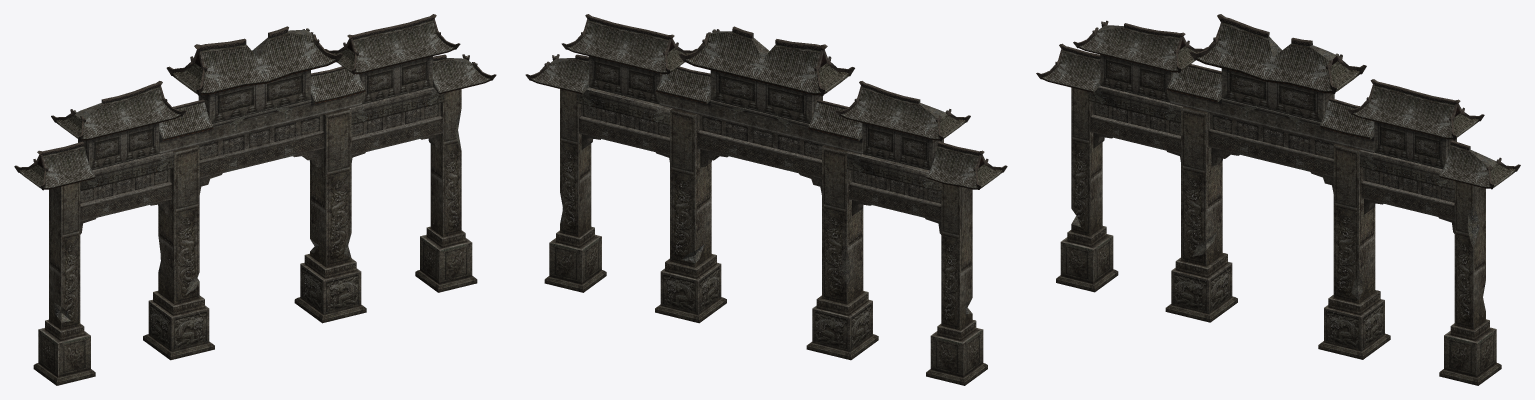
File: ep-034-stonedoor.glb
The picture shows the model from 3 angles, left to right: view 1: azimuth 30°, elevation 25°; view 2: azimuth 150°, elevation 25°; view 3: azimuth 330°, elevation 25°; orthographic projection.
Parts seen in each view (by area): view 1: ep-034-stonedoor-02; view 2: ep-034-stonedoor-02; view 3: ep-034-stonedoor-02.
Part boxes in pixels (bbox=[...]): ep-034-stonedoor-02: bbox=[14, 14, 496, 385]; ep-034-stonedoor-02: bbox=[525, 14, 1007, 385]; ep-034-stonedoor-02: bbox=[1036, 14, 1520, 385].
Bounding box in the file's own units: 29.7 × 18.41 × 3.51.
2 materials, 2 textured.
